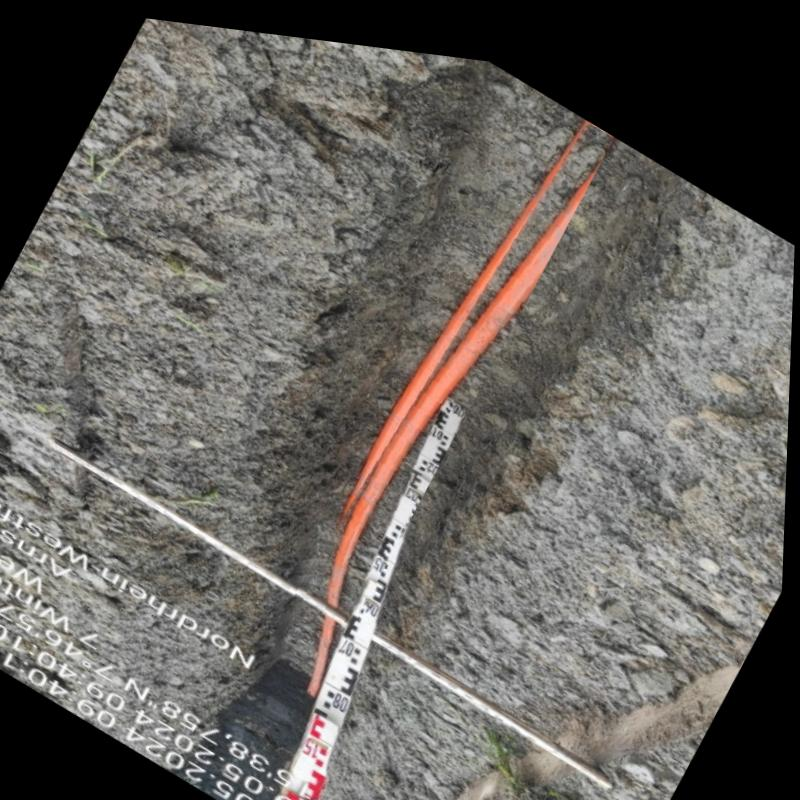Orang-Speednetrohrchen: (323, 121, 614, 641)
